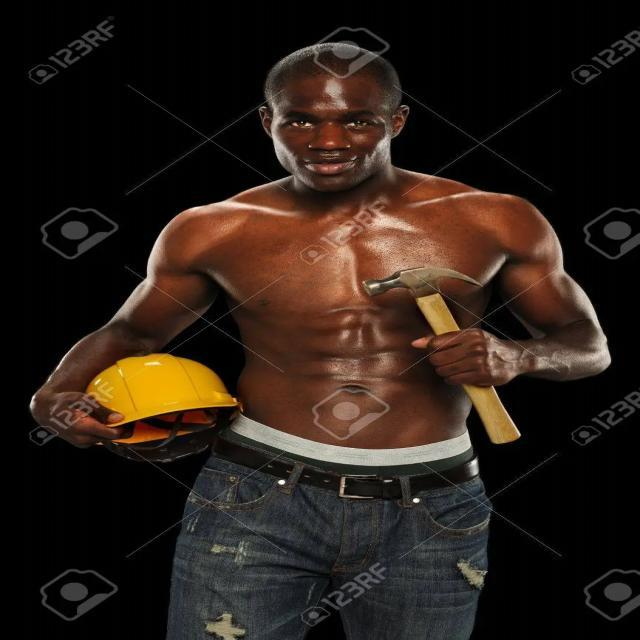hammer: (344, 260, 528, 450)
